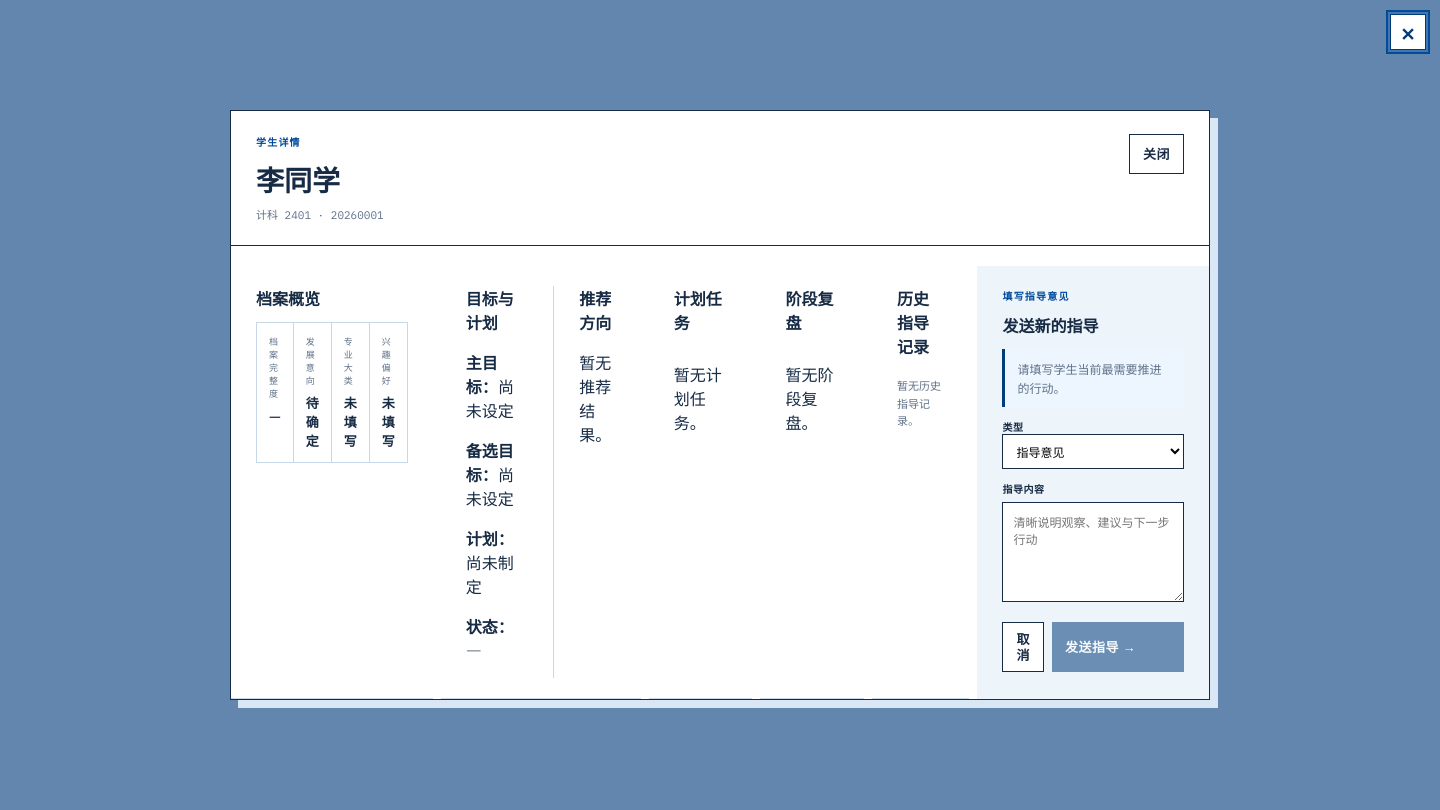
AdvisorStudentDialog › changes the drafting guidance when an advisor selects a task suggestion
Check: the text with test id "advisor-guidance-summary" reads "请填写学生当前最需要推进的行动。", box [1018,360,1162,396]
Select "建议任务" in the dropdown labelled "类型": [1093, 452] box [1002,434,1184,469]
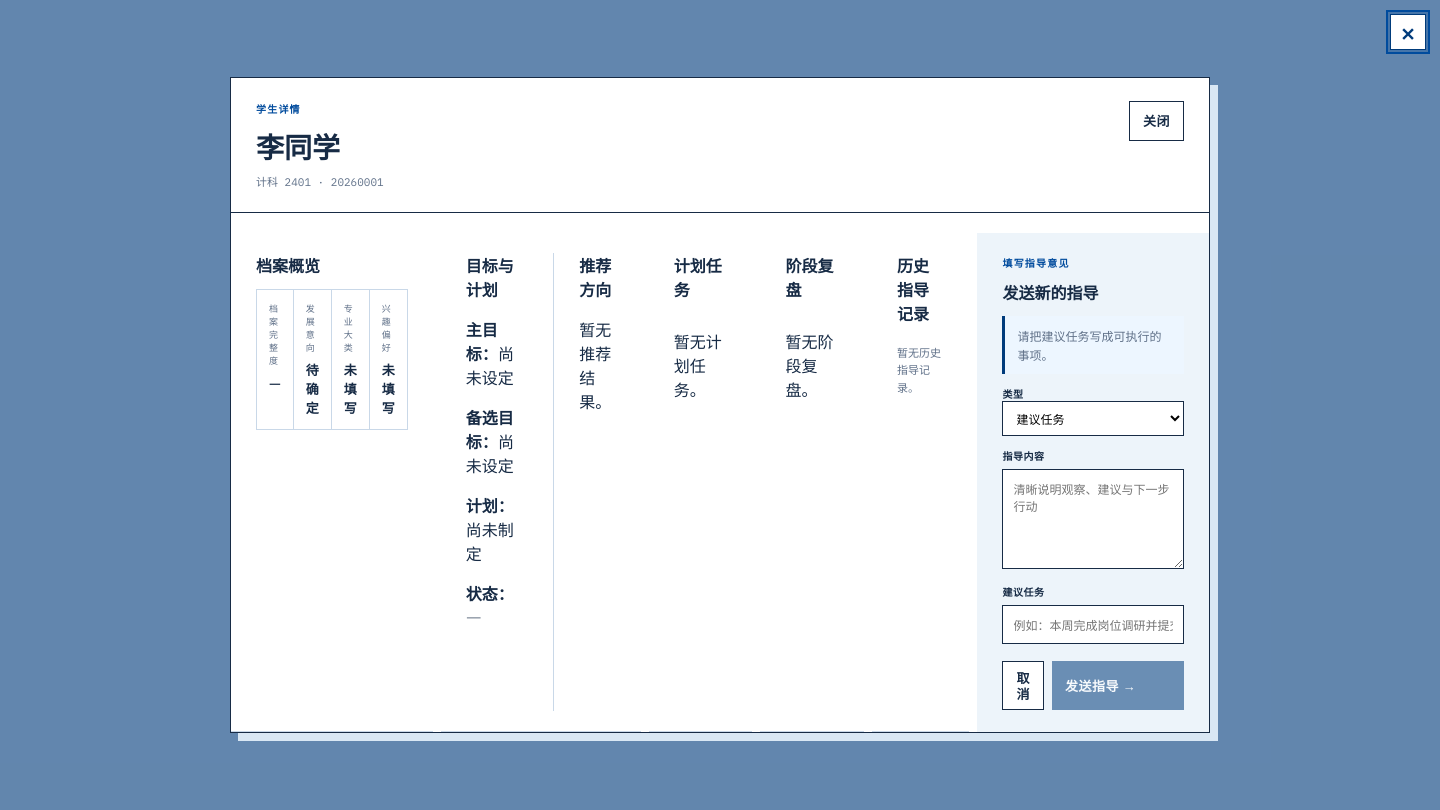
Check: the text with test id "advisor-guidance-summary" reads "请把建议任务写成可执行的事项。", box [1018,327,1162,363]
